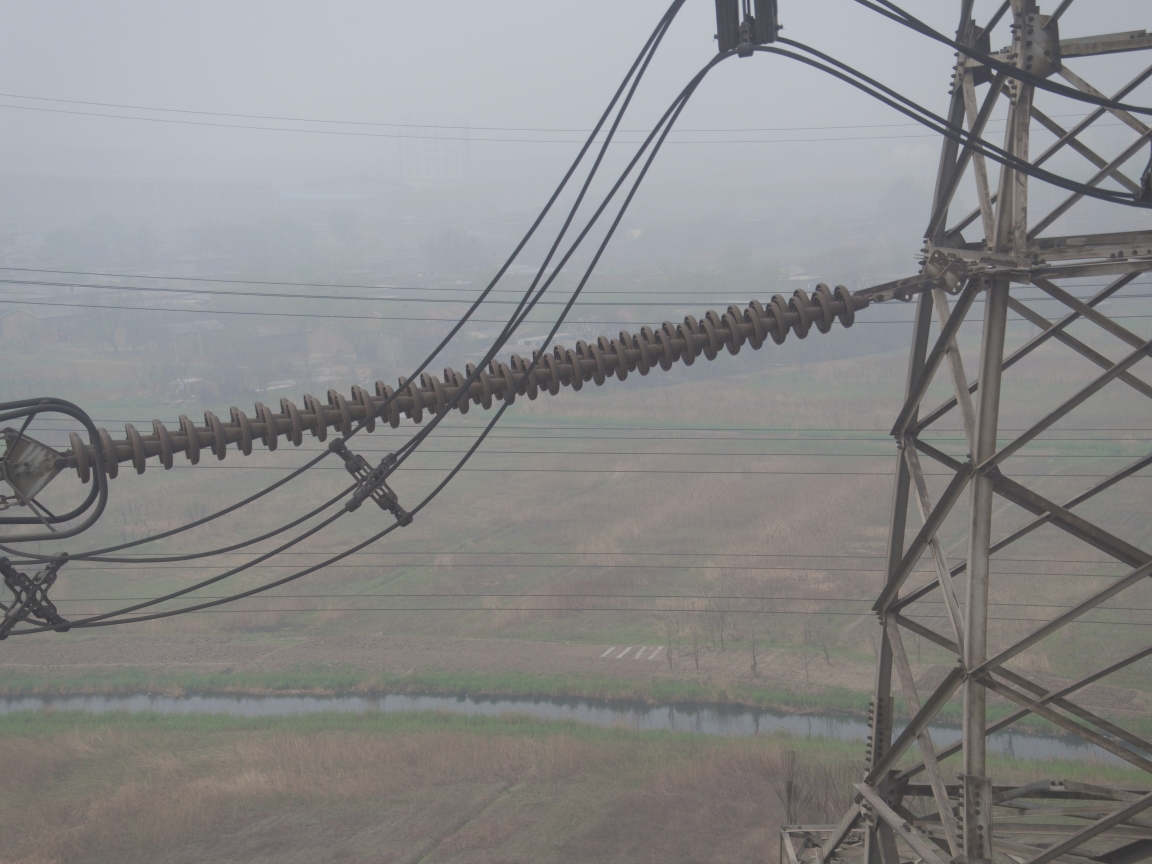insulator: (49, 279, 907, 488)
